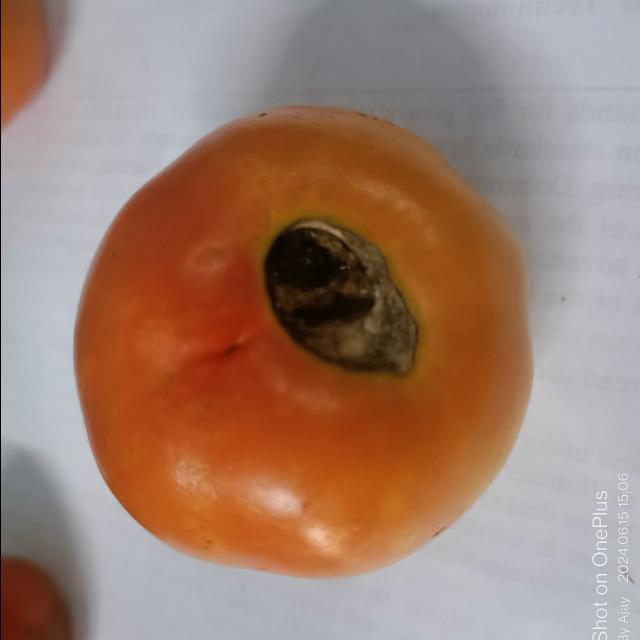fruitworm_bore: (263, 219, 427, 384)
